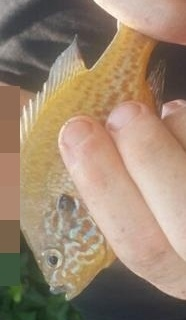Lepomis gibbosus: (20, 20, 166, 300)
